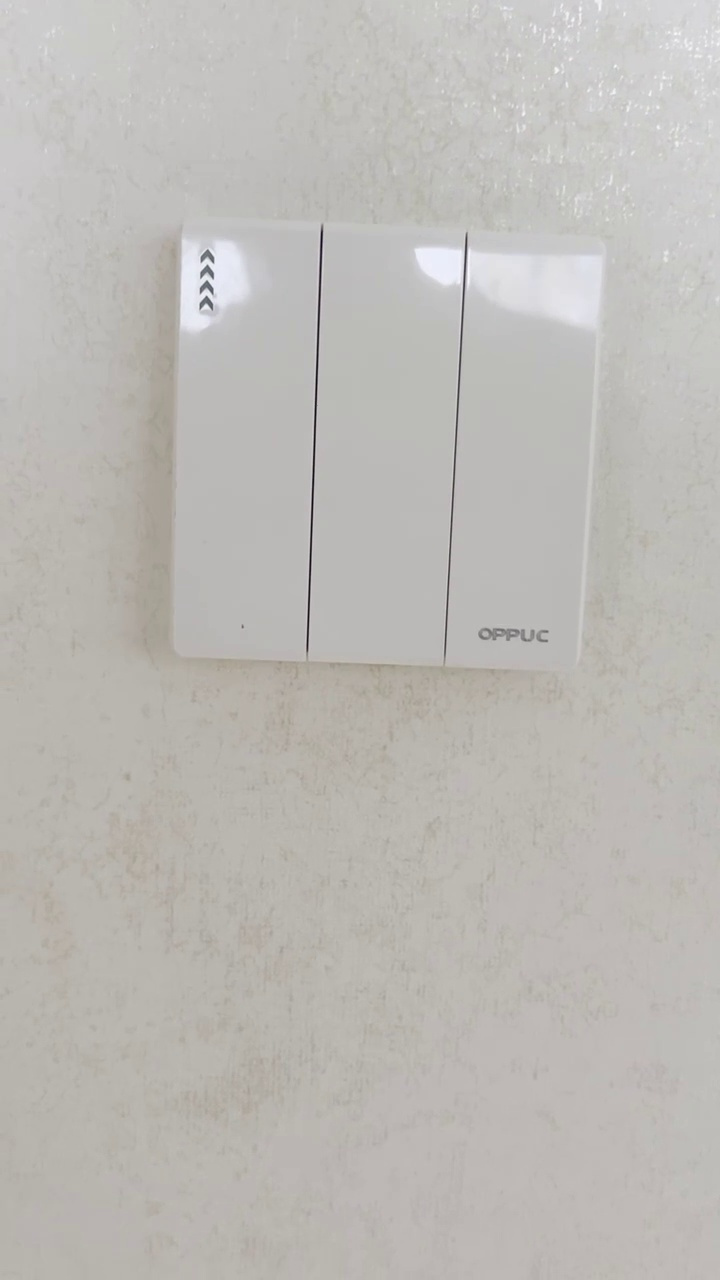button1: (311, 226, 455, 667), (453, 233, 590, 668), (182, 222, 313, 654)
